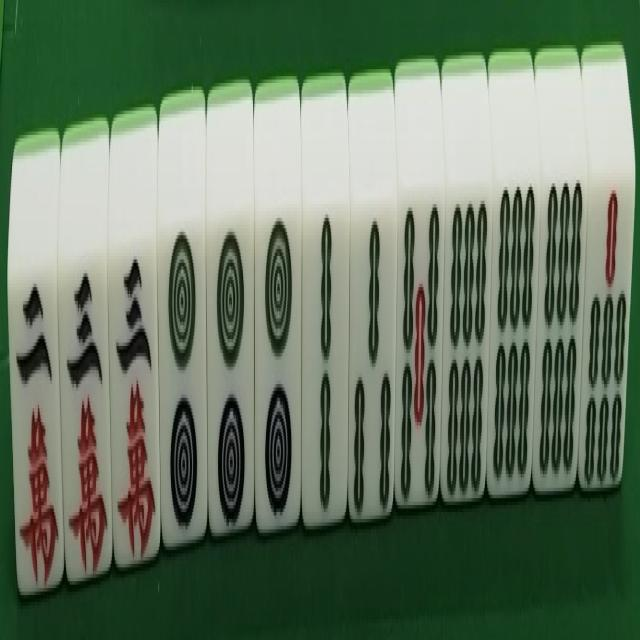m2: (9, 261, 61, 599)
m3: (60, 258, 111, 571), (113, 236, 157, 562)
s2: (302, 200, 349, 522)
s3: (348, 179, 398, 509)
s5: (396, 183, 443, 508)
s6: (535, 167, 585, 491), (489, 173, 538, 494), (444, 188, 489, 492)
s7: (583, 176, 632, 484)
t2: (159, 233, 204, 538), (257, 210, 299, 512), (212, 214, 250, 529)
